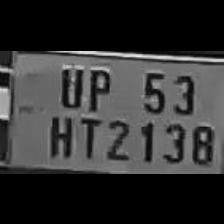1: (134, 115, 156, 161)
2: (102, 115, 132, 159)
3: (169, 68, 197, 114), (158, 117, 186, 163)
5: (137, 68, 167, 114)
8: (188, 120, 216, 166)
H: (45, 110, 75, 158)
P: (83, 64, 113, 110)
T: (74, 114, 102, 160)
U: (54, 63, 84, 109)
